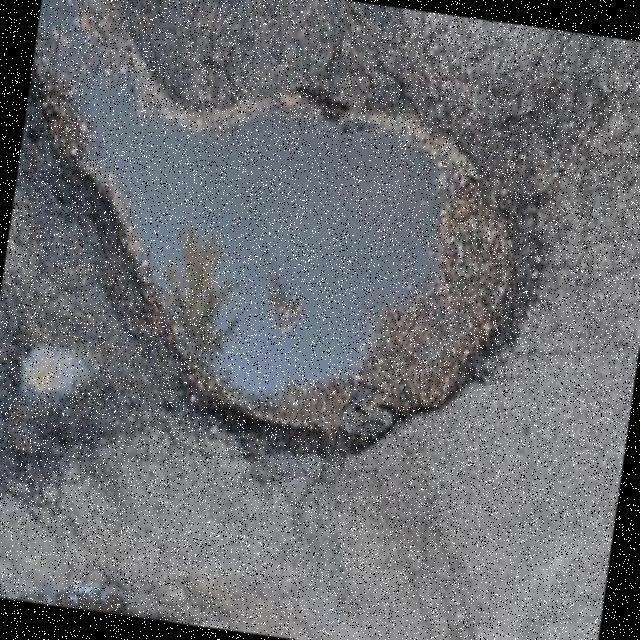Pothole: (30, 0, 542, 456)
